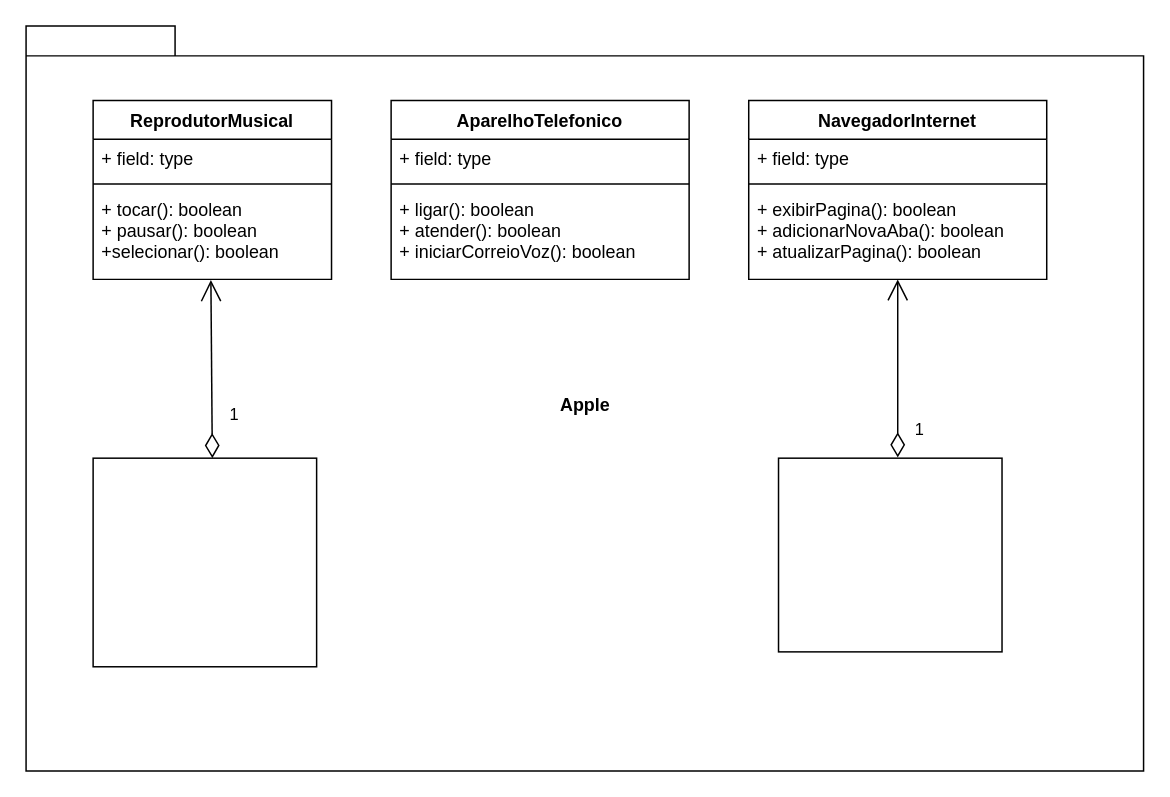
Some shapes in this 1170 by 797 pixel diagram are drawn without their labels. Here are the shapes that lost their labels. From the top down, the centre of each, then its label:
At point (204, 562): "Ipod + bateria: int + hd: int + ram: int + processador: int + ligar(): boolean".
At point (889, 554): "Macintosh + hd : int + ram int + processador: string + ligar(): boolean".
